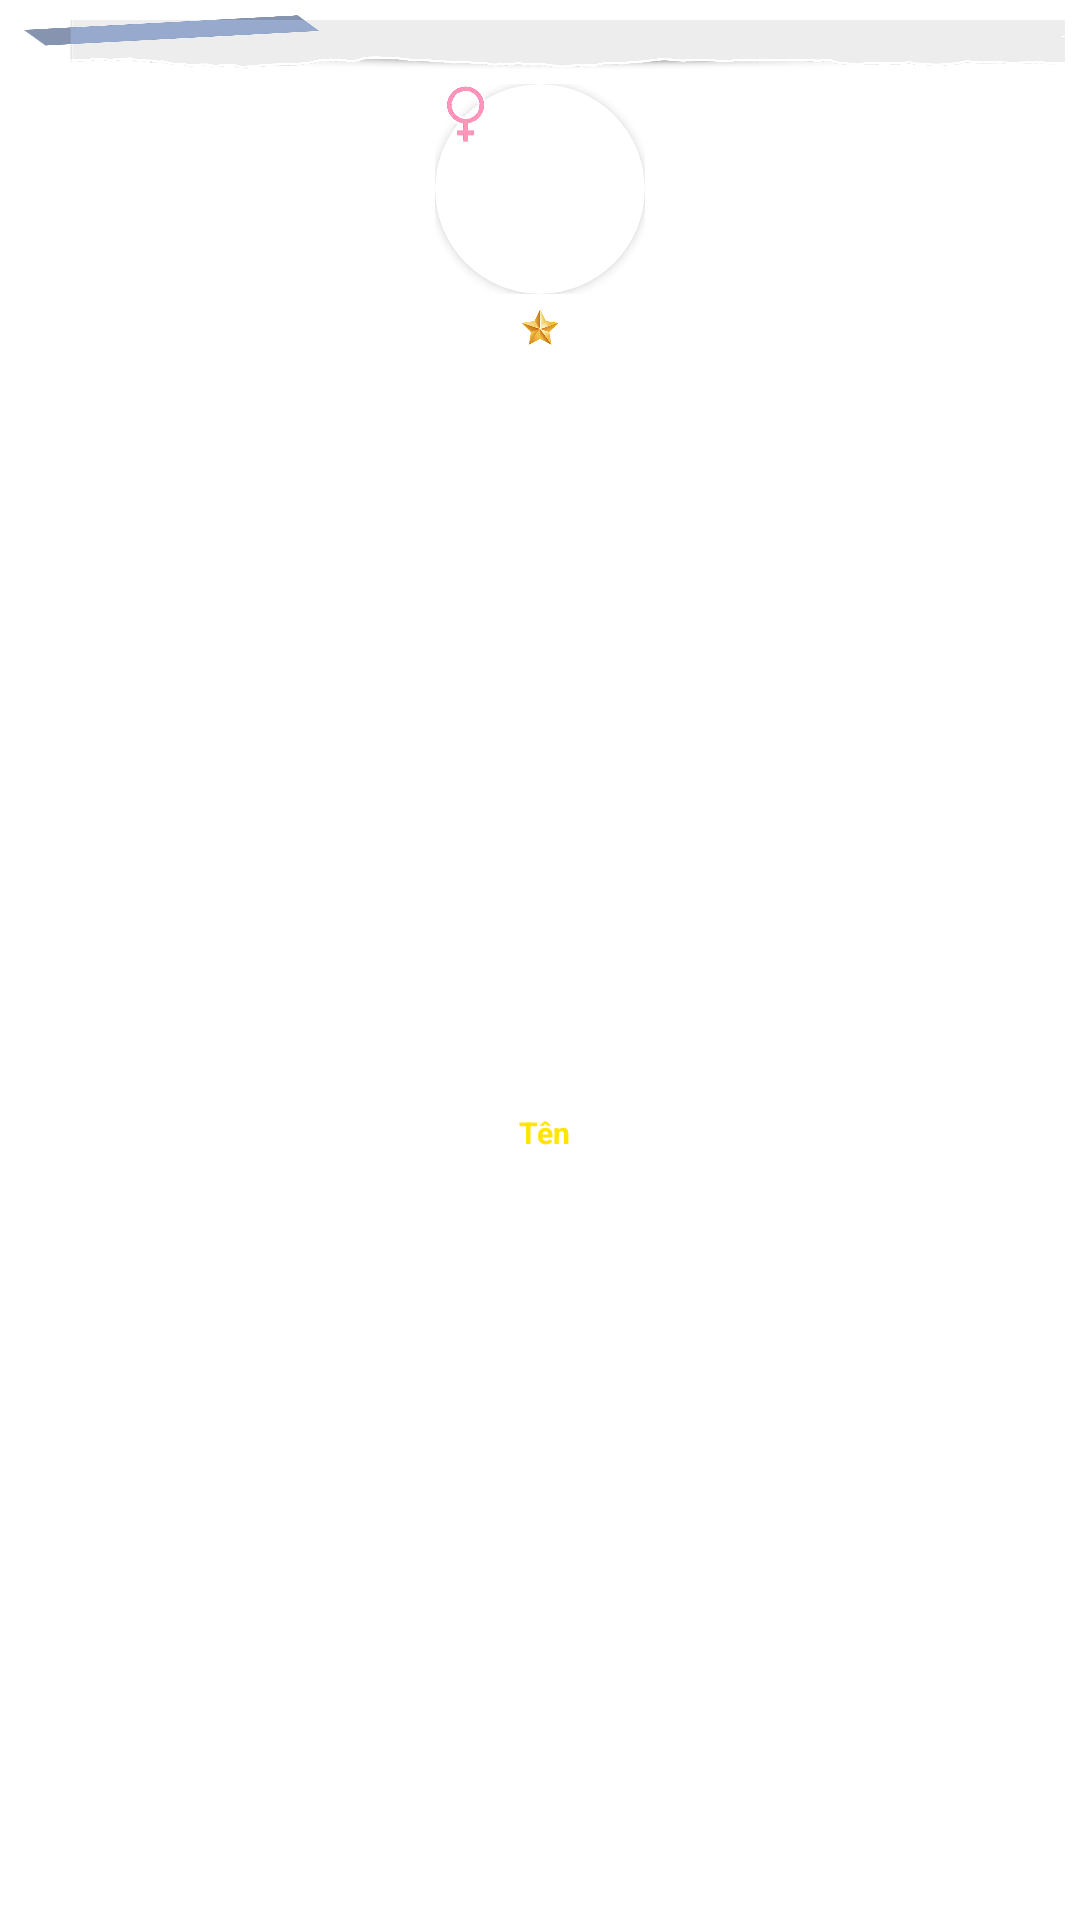

Where icons sit on this 1080px x 1920px app screen, as [left=x1, top=y1, right=x2, bottom=y2]:
sao: [left=522, top=310, right=558, bottom=345]
